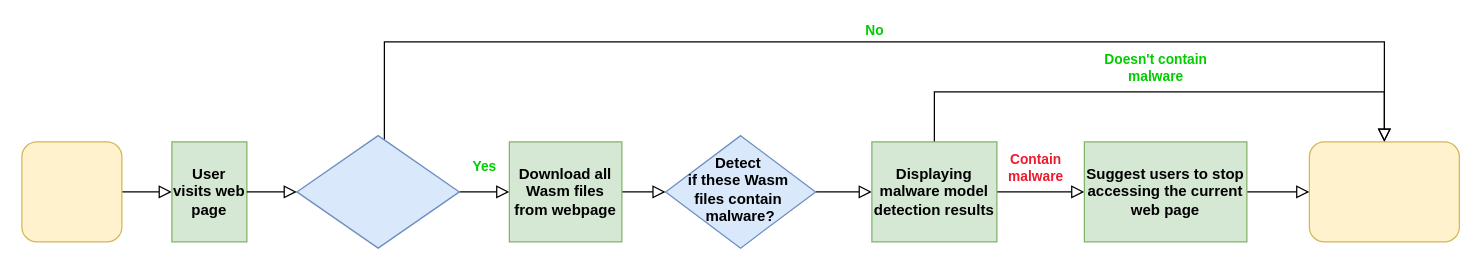
Some shapes in this 1481 by 270 pixel diagram are drawn without their labels. The centre of each missing label's shape, as x and y in pixels:
"Check if there is a Wasm file on web page?" goes at [377,191].
"Plugin startup" goes at [71,191].
"The plugin stopped working on this page" goes at [1383,191].
